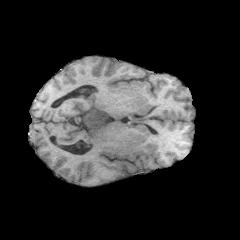glioma: (78, 105, 116, 141)
